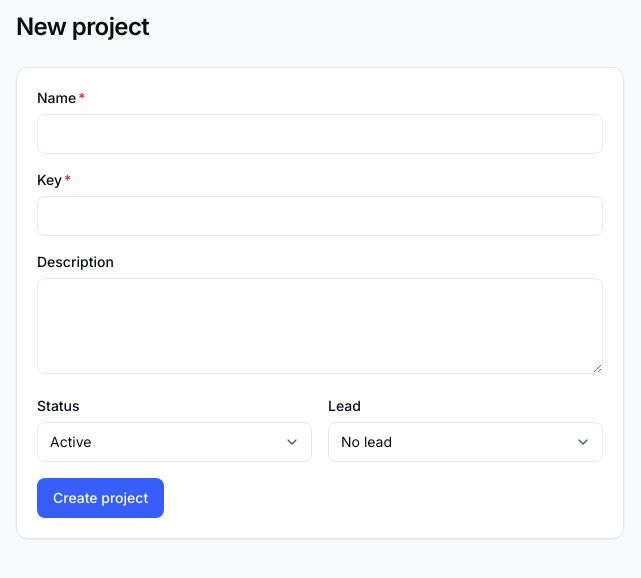
Test: NewProjectPage › rejects an invalid key format
Check: the button "Create project" is shown, box top-left (37, 478), bottom-right (164, 518)
Type "Engine" into the field labelled "Name" at (320, 134), box top-left (37, 114), bottom-right (603, 154)
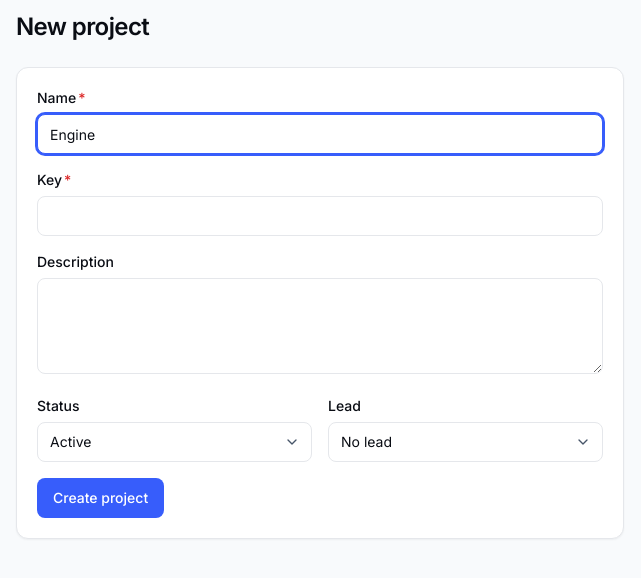
Type "1" into the field labelled "Key" at (320, 216), box top-left (37, 196), bottom-right (603, 236)
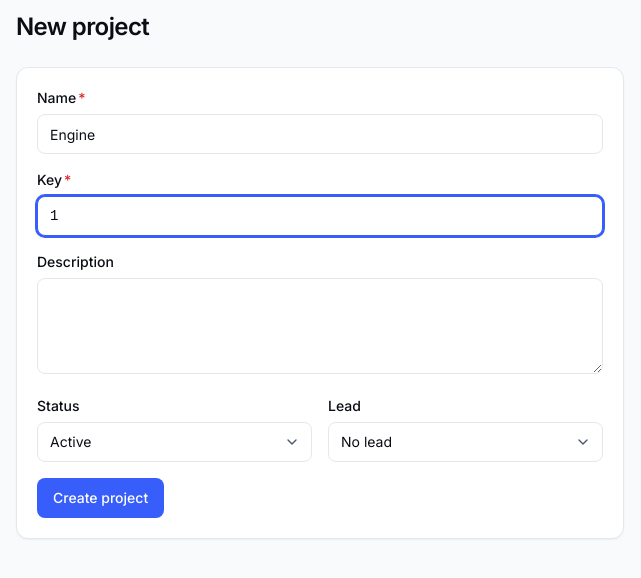
Click the button "Create project" at (101, 498), box top-left (37, 478), bottom-right (164, 518)
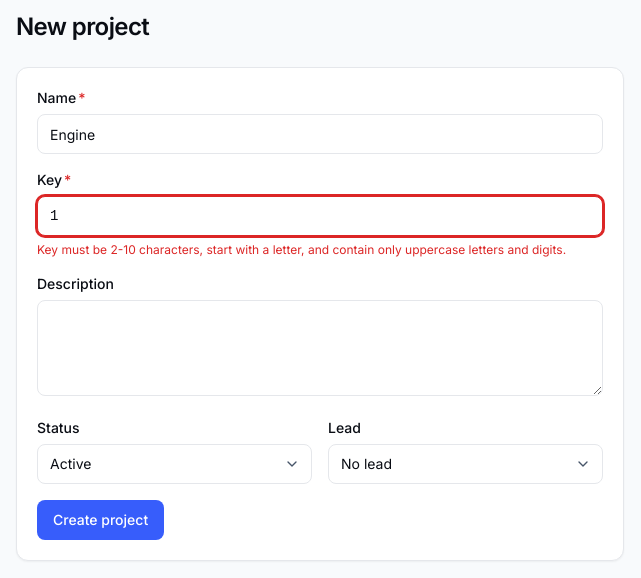
Check: the text "must be 2-10 characters" is shown, box top-left (37, 242), bottom-right (566, 257)
